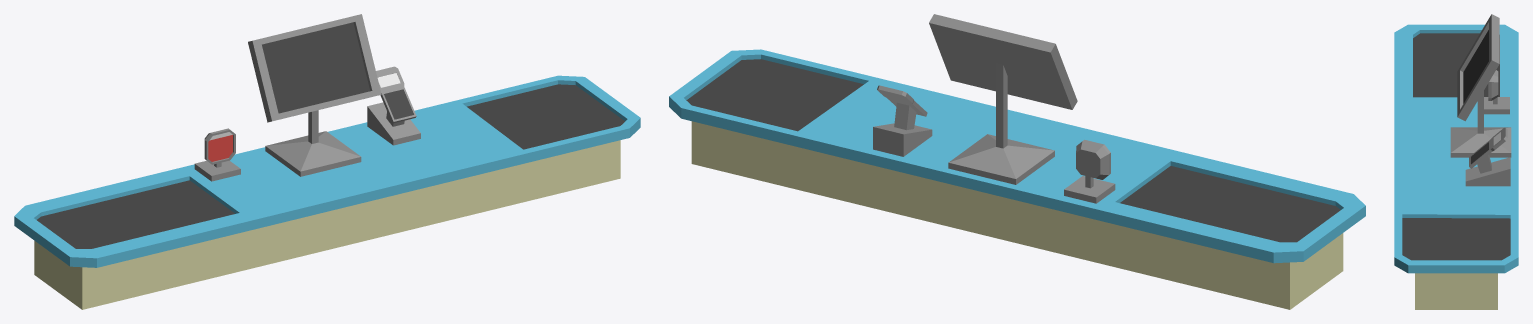
Rendered from market_tezgah.fbx.
3 renders of one model, left to right at view 1: azimuth 30°, elevation 25°; view 2: azimuth 150°, elevation 25°; view 3: azimuth 270°, elevation 25°, orthographic. The views are drawn at different scales.
Visible parts, largest first — view 1: tezgah_ust, tezgah_alt, tezgah_ust.002, ekran.001, tezgah_ust.001, cerceve, ayaklik, tutamac, Cube.002, pos_cihazi, tuslar, Cube.003; view 2: tezgah_ust, tezgah_alt, tezgah_ust.002, cerceve, tezgah_ust.001, ayaklik, tutamac, Cube.001, Cube.002, pos_cihazi; view 3: tezgah_ust, tezgah_ust.001, tezgah_ust.002, tezgah_alt, cerceve, ayaklik, tutamac, ekran.001, Cube.002, pos_cihazi, Cube.001, tuslar.
Part boxes in pixels (x1,y1,x2,y2): tezgah_ust: [14, 75, 640, 267]; tezgah_alt: [34, 140, 620, 309]; tezgah_ust.002: [37, 180, 234, 248]; ekran.001: [262, 22, 369, 113]; tezgah_ust.001: [467, 84, 624, 149]; cerceve: [248, 14, 381, 122]; ayaklik: [265, 110, 361, 176]; tutamac: [367, 102, 420, 145]; Cube.002: [194, 160, 240, 181]; pos_cihazi: [376, 66, 416, 123]; tuslar: [384, 89, 413, 119]; Cube.003: [208, 135, 232, 161]; tezgah_ust: [669, 49, 1365, 263]; tezgah_alt: [691, 121, 1343, 309]; tezgah_ust.002: [1120, 166, 1340, 242]; cerceve: [929, 14, 1077, 109]; tezgah_ust.001: [686, 59, 863, 131]; ayaklik: [948, 63, 1054, 184]; tutamac: [873, 102, 932, 156]; Cube.001: [1076, 139, 1110, 179]; Cube.002: [1064, 176, 1115, 203]; pos_cihazi: [877, 85, 927, 116]; tezgah_ust: [1394, 24, 1518, 273]; tezgah_ust.001: [1402, 218, 1510, 260]; tezgah_ust.002: [1413, 33, 1499, 97]; tezgah_alt: [1415, 273, 1497, 309]; cerceve: [1457, 14, 1499, 121]; ayaklik: [1450, 91, 1511, 157]; tutamac: [1465, 155, 1510, 186]; ekran.001: [1463, 30, 1488, 103]; Cube.002: [1484, 97, 1509, 114]; pos_cihazi: [1469, 127, 1507, 168]; Cube.001: [1488, 70, 1498, 100]; tuslar: [1470, 142, 1488, 164].
Bounding box in the file's own units: 379 × 117 × 82.66.
